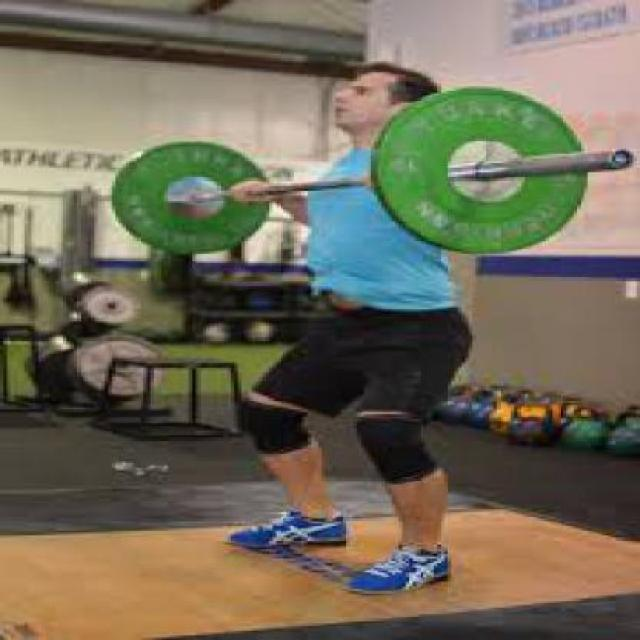barbell: (375, 85, 639, 262)
